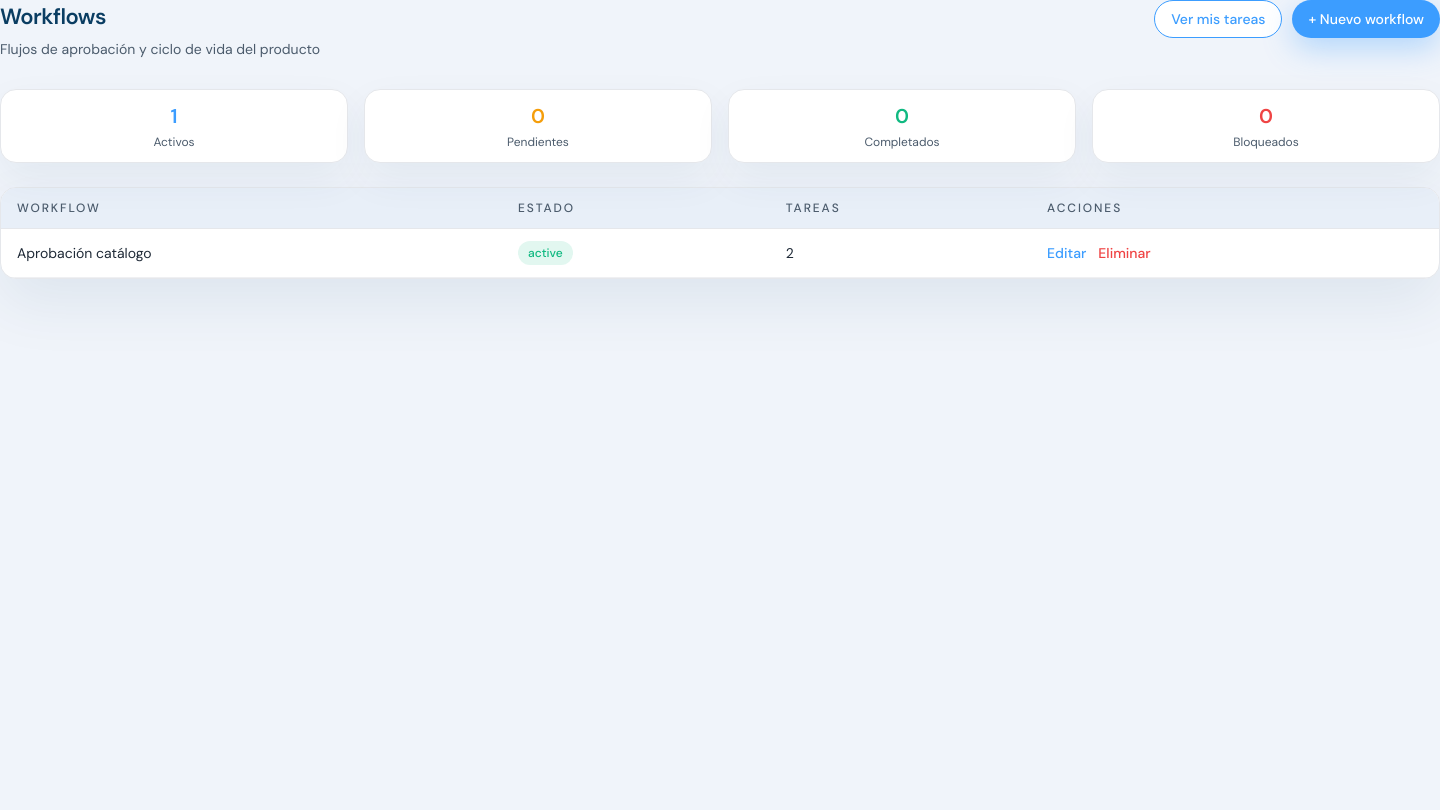
Scenario: WorkflowsPage › muestra workflows y permite abrir edición
This screenshot has width=1440, height=810.
Check: the text "Aprobación catálogo" is shown, box [1,228,502,278]
Click the button "Editar" at coordinates (1067, 253), box [1047,243,1086,263]
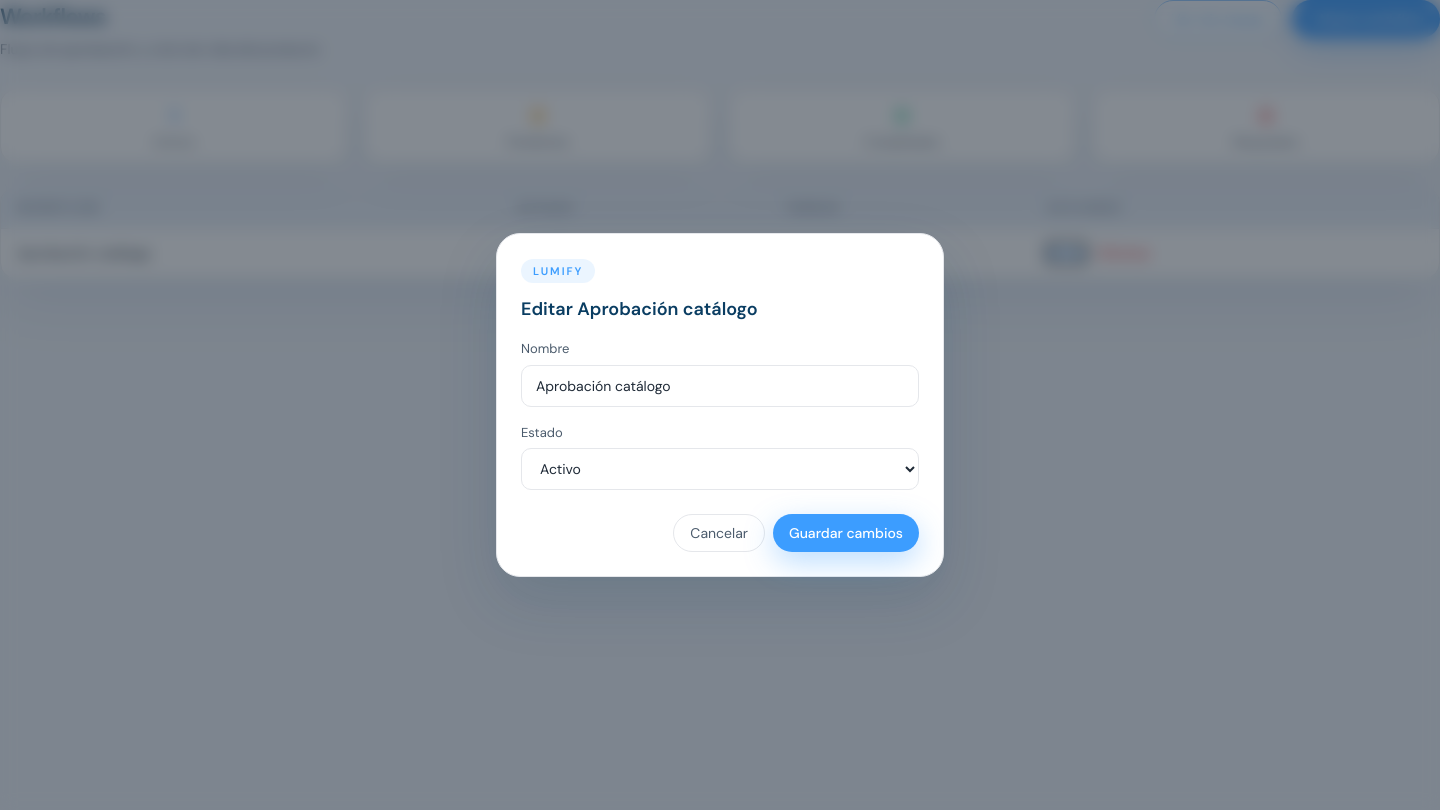
Check: the heading "Editar Aprobación catálogo" is shown, box [521,297,758,321]
